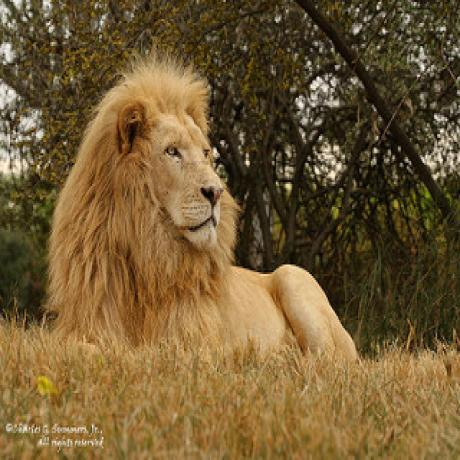Lion: (51, 52, 359, 366)
